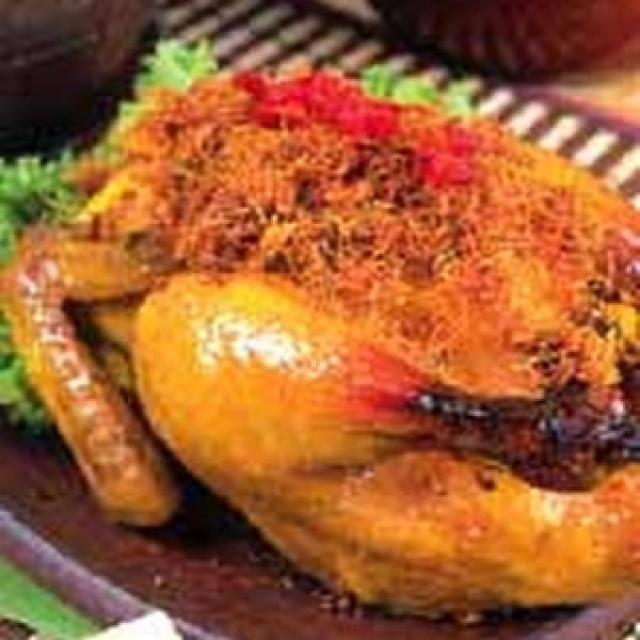鸡肉料理 含炸鸡: (26, 34, 634, 600)
